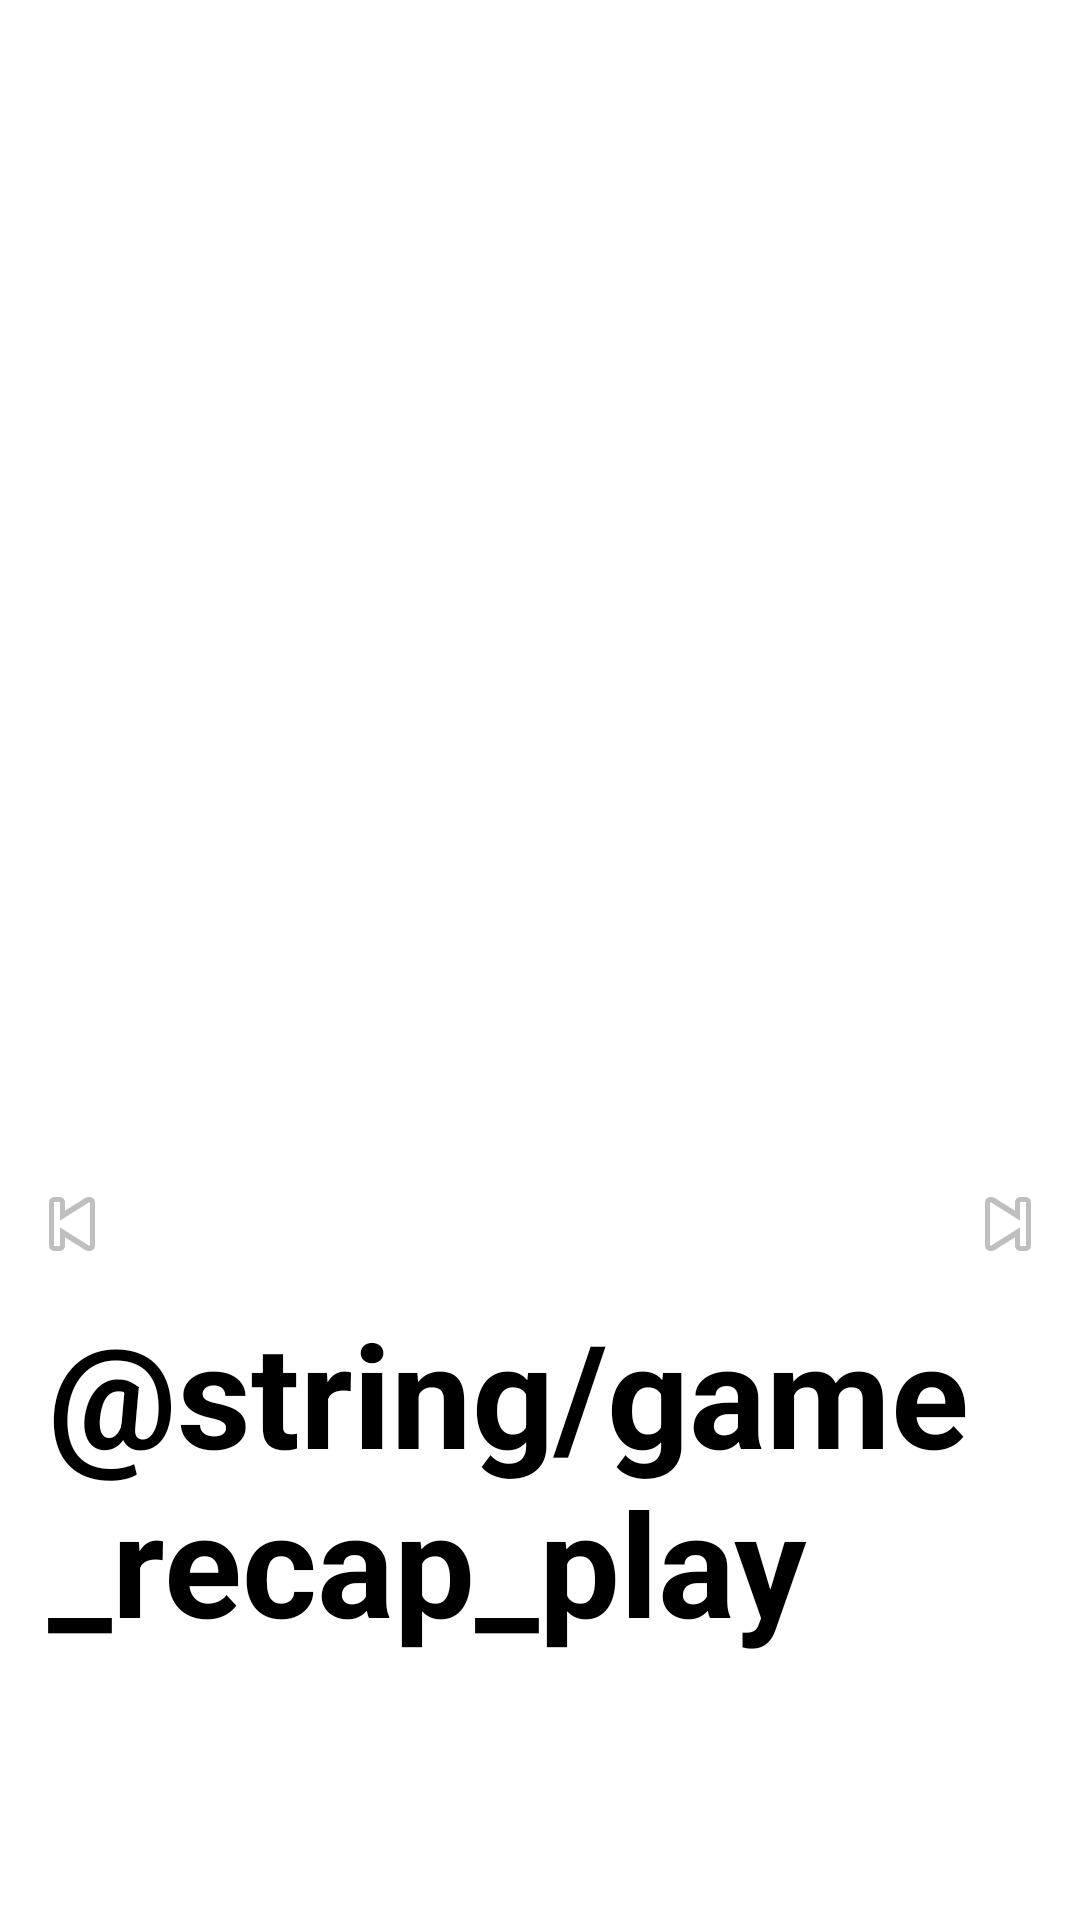

Where icons sit on this 1080px×1920px app screen, as (x1, y1, x2, y2):
next: (985, 1197, 1031, 1251)
previous: (49, 1197, 95, 1251)
